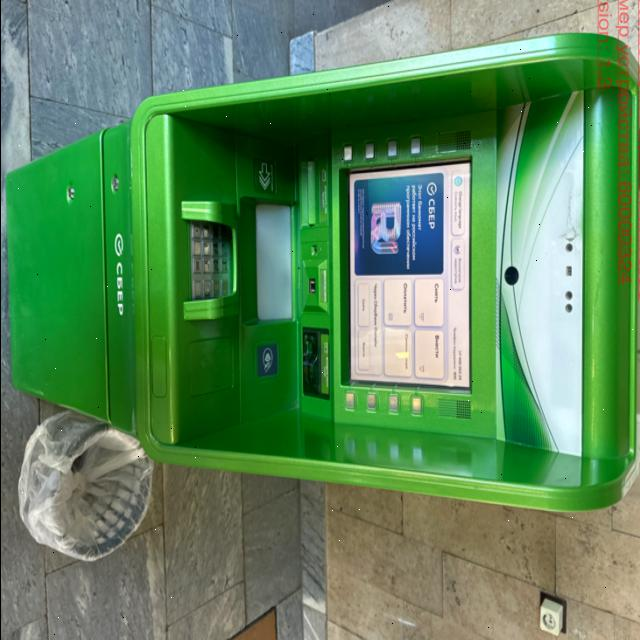bank: (9, 34, 640, 517)
